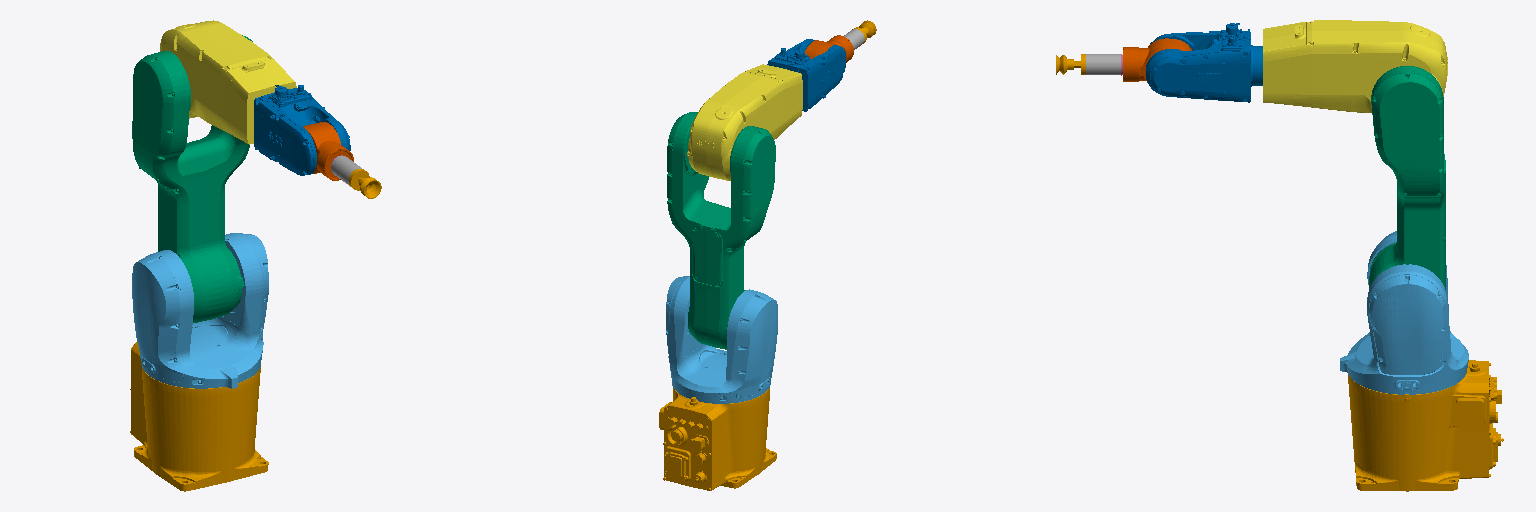
The robot description file, URDF, robot "irb1200":
<?xml version="1.0" ?>
<robot name="irb1200" xmlns:xacro="http://www.ros.org/wiki/xacro">
<link name="base_link">
  <inertial>
    <origin xyz="0.0004759674741186417 0.02363485068790292 0.11219148932498035" rpy="0 0 0"/>
    <mass value="83.56071102944446"/>
    <inertia ixx="0.781146" iyy="0.579256" izz="0.698148" ixy="-0.004319" iyz="0.00506" ixz="-0.001279"/>
  </inertial>
  <visual>
    <origin xyz="0 0 0" rpy="0 0 0"/>
    <geometry>
      <mesh filename="package://irb1200/meshes/base_link.stl" scale="0.001 0.001 0.001"/>
    </geometry>
    
  </visual>
  <collision>
    <origin xyz="0 0 0" rpy="0 0 0"/>
    <geometry>
      <mesh filename="package://irb1200/meshes/base_link.stl" scale="0.001 0.001 0.001"/>
    </geometry>
  </collision>
</link>

<link name="Link1_rev0_1">
  <inertial>
    <origin xyz="0.0004383806530665506 0.00326493021677348 0.10230298786125677" rpy="0 0 0"/>
    <mass value="47.61495963534385"/>
    <inertia ixx="0.37735" iyy="0.595233" izz="0.433856" ixy="0.000186" iyz="0.004407" ixz="0.000755"/>
  </inertial>
  <visual>
    <origin xyz="0.0 -0.0 -0.219" rpy="0 0 0"/>
    <geometry>
      <mesh filename="package://irb1200/meshes/Link1_rev0_1.stl" scale="0.001 0.001 0.001"/>
    </geometry>
    
  </visual>
  <collision>
    <origin xyz="0.0 -0.0 -0.219" rpy="0 0 0"/>
    <geometry>
      <mesh filename="package://irb1200/meshes/Link1_rev0_1.stl" scale="0.001 0.001 0.001"/>
    </geometry>
  </collision>
</link>

<link name="Link2_rev0_1">
  <inertial>
    <origin xyz="0.05704146777769828 0.012331972875891169 0.21847788526315937" rpy="0 0 0"/>
    <mass value="62.59364394380273"/>
    <inertia ixx="1.921119" iyy="2.095675" izz="0.339093" ixy="-0.000462" iyz="0.008496" ixz="0.002671"/>
  </inertial>
  <visual>
    <origin xyz="0.0615 -0.0 -0.3991" rpy="0 0 0"/>
    <geometry>
      <mesh filename="package://irb1200/meshes/Link2_rev0_1.stl" scale="0.001 0.001 0.001"/>
    </geometry>
    
  </visual>
  <collision>
    <origin xyz="0.0615 -0.0 -0.3991" rpy="0 0 0"/>
    <geometry>
      <mesh filename="package://irb1200/meshes/Link2_rev0_1.stl" scale="0.001 0.001 0.001"/>
    </geometry>
  </collision>
</link>

<link name="Link3_rev0_1">
  <inertial>
    <origin xyz="-0.06379555030759612 -0.09811898038030374 0.03502911684883658" rpy="0 0 0"/>
    <mass value="50.25181750727747"/>
    <inertia ixx="0.614584" iyy="0.159822" izz="0.56594" ixy="-0.000967" iyz="0.040908" ixz="0.000343"/>
  </inertial>
  <visual>
    <origin xyz="-0.0607 -0.0 -0.8471" rpy="0 0 0"/>
    <geometry>
      <mesh filename="package://irb1200/meshes/Link3_rev0_1.stl" scale="0.001 0.001 0.001"/>
    </geometry>
    
  </visual>
  <collision>
    <origin xyz="-0.0607 -0.0 -0.8471" rpy="0 0 0"/>
    <geometry>
      <mesh filename="package://irb1200/meshes/Link3_rev0_1.stl" scale="0.001 0.001 0.001"/>
    </geometry>
  </collision>
</link>

<link name="Link4_rev0_1">
  <inertial>
    <origin xyz="0.001625537251923985 -0.0937540320207727 0.001095972007822188" rpy="0 0 0"/>
    <mass value="14.103815294617599"/>
    <inertia ixx="0.057707" iyy="0.029402" izz="0.061948" ixy="0.001376" iyz="-0.000481" ixz="-1e-05"/>
  </inertial>
  <visual>
    <origin xyz="0.0033 0.2885 -0.888589" rpy="0 0 0"/>
    <geometry>
      <mesh filename="package://irb1200/meshes/Link4_rev0_1.stl" scale="0.001 0.001 0.001"/>
    </geometry>
    
  </visual>
  <collision>
    <origin xyz="0.0033 0.2885 -0.888589" rpy="0 0 0"/>
    <geometry>
      <mesh filename="package://irb1200/meshes/Link4_rev0_1.stl" scale="0.001 0.001 0.001"/>
    </geometry>
  </collision>
</link>

<link name="Link5_rev0_1">
  <inertial>
    <origin xyz="-0.028822154297697893 -0.020848353265404296 -5.43628715483635e-05" rpy="0 0 0"/>
    <mass value="4.542291056700567"/>
    <inertia ixx="0.008926" iyy="0.003477" izz="0.007834" ixy="-0.000177" iyz="1.2e-05" ixz="-4e-06"/>
  </inertial>
  <visual>
    <origin xyz="-0.022199 0.474 -0.888592" rpy="0 0 0"/>
    <geometry>
      <mesh filename="package://irb1200/meshes/Link5_rev0_1.stl" scale="0.001 0.001 0.001"/>
    </geometry>
    
  </visual>
  <collision>
    <origin xyz="-0.022199 0.474 -0.888592" rpy="0 0 0"/>
    <geometry>
      <mesh filename="package://irb1200/meshes/Link5_rev0_1.stl" scale="0.001 0.001 0.001"/>
    </geometry>
  </collision>
</link>

<link name="Link6_rev0_1">
  <inertial>
    <origin xyz="-4.944434111361223e-07 -0.0028457139621871352 -0.00036694072263832034" rpy="0 0 0"/>
    <mass value="0.03668180966446828"/>
    <inertia ixx="5e-06" iyy="1e-05" izz="5e-06" ixy="-0.0" iyz="0.0" ixz="0.0"/>
  </inertial>
  <visual>
    <origin xyz="0.009051 0.5665 -0.888594" rpy="0 0 0"/>
    <geometry>
      <mesh filename="package://irb1200/meshes/Link6_rev0_1.stl" scale="0.001 0.001 0.001"/>
    </geometry>
    
  </visual>
  <collision>
    <origin xyz="0.009051 0.5665 -0.888594" rpy="0 0 0"/>
    <geometry>
      <mesh filename="package://irb1200/meshes/Link6_rev0_1.stl" scale="0.001 0.001 0.001"/>
    </geometry>
  </collision>
</link>

<link name="tubo_Prismatico_v4_1">
  <inertial>
    <origin xyz="-4.944404100211408e-07 -0.030291464452243733 4.067732127799317e-07" rpy="0 0 0"/>
    <mass value="0.28192289619363314"/>
    <inertia ixx="0.000187" iyy="0.000103" izz="0.000187" ixy="0.0" iyz="0.0" ixz="0.0"/>
  </inertial>
  <visual>
    <origin xyz="0.009051 0.572 -0.888594" rpy="0 0 0"/>
    <geometry>
      <mesh filename="package://irb1200/meshes/tubo_Prismatico_v4_1.stl" scale="0.001 0.001 0.001"/>
    </geometry>
    
  </visual>
  <collision>
    <origin xyz="0.009051 0.572 -0.888594" rpy="0 0 0"/>
    <geometry>
      <mesh filename="package://irb1200/meshes/tubo_Prismatico_v4_1.stl" scale="0.001 0.001 0.001"/>
    </geometry>
  </collision>
</link>

<link name="ventosa_prismatico_1">
  <inertial>
    <origin xyz="-4.944385040943355e-07 -0.044914102030246816 7.328922135840799e-07" rpy="0 0 0"/>
    <mass value="0.6744811347638636"/>
    <inertia ixx="0.000594" iyy="0.000116" izz="0.000594" ixy="0.0" iyz="0.0" ixz="-0.0"/>
  </inertial>
  <visual>
    <origin xyz="0.009051 0.577 -0.888594" rpy="0 0 0"/>
    <geometry>
      <mesh filename="package://irb1200/meshes/ventosa_prismatico_1.stl" scale="0.001 0.001 0.001"/>
    </geometry>
    
  </visual>
  <collision>
    <origin xyz="0.009051 0.577 -0.888594" rpy="0 0 0"/>
    <geometry>
      <mesh filename="package://irb1200/meshes/ventosa_prismatico_1.stl" scale="0.001 0.001 0.001"/>
    </geometry>
  </collision>
</link>

<joint name="Revolute 1" type="revolute">
  <origin xyz="0.0 0.0 0.219" rpy="0 0 0"/>
  <parent link="base_link"/>
  <child link="Link1_rev0_1"/>
  <axis xyz="-0.0 0.0 1.0"/>
  <limit upper="1.570796" lower="-1.570796" effort="100" velocity="100"/>
</joint>

<joint name="Revolute 2" type="revolute">
  <origin xyz="-0.0615 0.0 0.1801" rpy="0 0 0"/>
  <parent link="Link1_rev0_1"/>
  <child link="Link2_rev0_1"/>
  <axis xyz="1.0 0.0 0.0"/>
  <limit upper="1.570796" lower="-1.570796" effort="100" velocity="100"/>
</joint>

<joint name="Revolute 3" type="revolute">
  <origin xyz="0.1222 0.0 0.448" rpy="0 0 0"/>
  <parent link="Link2_rev0_1"/>
  <child link="Link3_rev0_1"/>
  <axis xyz="-1.0 -0.0 -0.0"/>
  <limit upper="1.047198" lower="-1.047198" effort="100" velocity="100"/>
</joint>

<joint name="Revolute 4" type="revolute">
  <origin xyz="-0.064 -0.2885 0.041489" rpy="0 0 0"/>
  <parent link="Link3_rev0_1"/>
  <child link="Link4_rev0_1"/>
  <axis xyz="0.0 -1.0 0.0"/>
  <limit upper="1.570796" lower="-1.570796" effort="100" velocity="100"/>
</joint>

<joint name="Revolute 5" type="revolute">
  <origin xyz="0.025499 -0.1855 3e-06" rpy="0 0 0"/>
  <parent link="Link4_rev0_1"/>
  <child link="Link5_rev0_1"/>
  <axis xyz="-1.0 -0.0 -0.0"/>
  <limit upper="1.570796" lower="-1.570796" effort="100" velocity="100"/>
</joint>

<joint name="Revolute 10" type="continuous">
  <origin xyz="-0.03125 -0.0925 2e-06" rpy="0 0 0"/>
  <parent link="Link5_rev0_1"/>
  <child link="Link6_rev0_1"/>
  <axis xyz="0.0 -1.0 1.7e-05"/>
</joint>

<joint name="Rigid 11" type="fixed">
  <origin xyz="0.0 -0.0055 0.0" rpy="0 0 0"/>
  <parent link="Link6_rev0_1"/>
  <child link="tubo_Prismatico_v4_1"/>
</joint>

<joint name="Slider 12" type="prismatic">
  <origin xyz="0.0 -0.005 0.0" rpy="0 0 0"/>
  <parent link="tubo_Prismatico_v4_1"/>
  <child link="ventosa_prismatico_1"/>
  <axis xyz="0.0 -1.0 1.7e-05"/>
  <limit upper="0.062" lower="0.0" effort="100" velocity="100"/>
</joint>

</robot>

--- Render facts (derived) ---
3 views of the same robot in one strip: view 1: azimuth 30°, elevation 25°; view 2: azimuth 150°, elevation 25°; view 3: azimuth 270°, elevation 25° (orthographic).
Model irb1200 with 9 links and 8 joints (5 revolute, 1 continuous, 1 prismatic, 1 fixed), rooted at base_link, posed all joints at 0.
Links seen in each view (by area): view 1: Link2_rev0_1, Link1_rev0_1, base_link, Link3_rev0_1, Link4_rev0_1, Link5_rev0_1, ventosa_prismatico_1; view 2: Link2_rev0_1, Link1_rev0_1, base_link, Link3_rev0_1, Link4_rev0_1, Link5_rev0_1; view 3: base_link, Link3_rev0_1, Link2_rev0_1, Link1_rev0_1, Link4_rev0_1, Link5_rev0_1, tubo_Prismatico_v4_1.
Boxes of the visible links, x1=… form: Link2_rev0_1: x1=132, y1=35, x2=252, y2=322; Link1_rev0_1: x1=132, y1=233, x2=268, y2=388; base_link: x1=130, y1=342, x2=268, y2=491; Link3_rev0_1: x1=160, y1=20, x2=296, y2=144; Link4_rev0_1: x1=254, y1=85, x2=350, y2=175; Link5_rev0_1: x1=303, y1=122, x2=353, y2=180; ventosa_prismatico_1: x1=349, y1=169, x2=381, y2=198; Link2_rev0_1: x1=667, y1=112, x2=775, y2=349; Link1_rev0_1: x1=666, y1=276, x2=777, y2=403; base_link: x1=659, y1=385, x2=776, y2=490; Link3_rev0_1: x1=687, y1=64, x2=802, y2=180; Link4_rev0_1: x1=767, y1=39, x2=845, y2=111; Link5_rev0_1: x1=805, y1=35, x2=853, y2=62; base_link: x1=1348, y1=360, x2=1503, y2=491; Link3_rev0_1: x1=1263, y1=20, x2=1447, y2=112; Link2_rev0_1: x1=1369, y1=66, x2=1445, y2=289; Link1_rev0_1: x1=1340, y1=231, x2=1468, y2=394; Link4_rev0_1: x1=1146, y1=23, x2=1262, y2=102; Link5_rev0_1: x1=1123, y1=38, x2=1191, y2=82; tubo_Prismatico_v4_1: x1=1086, y1=54, x2=1120, y2=74.
Size in the robot's own frame: 0.2636 by 0.8939 by 0.9771 metres.
Meshes: 9 distinct files referenced, 9 mesh visuals loaded (9 binary STL).